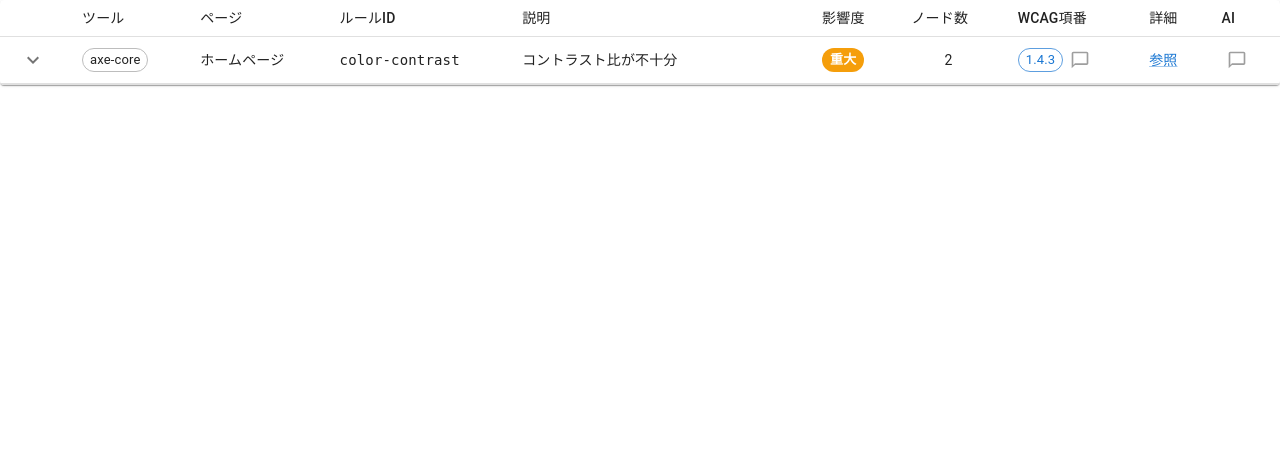
Test case: ViolationsTable › NodeDetails展開機能 › 展開ボタンをクリックするとノード情報が表示される
Expected: the text "<p style=\"color: #777\">テスト</p>" is not shown
Note: 展開ボタンをクリック
What coordinates should you click on to do the following:
click the button named "ノード情報を展開"
I would click on:
 (33, 60)
Its box is [16,43,50,77].
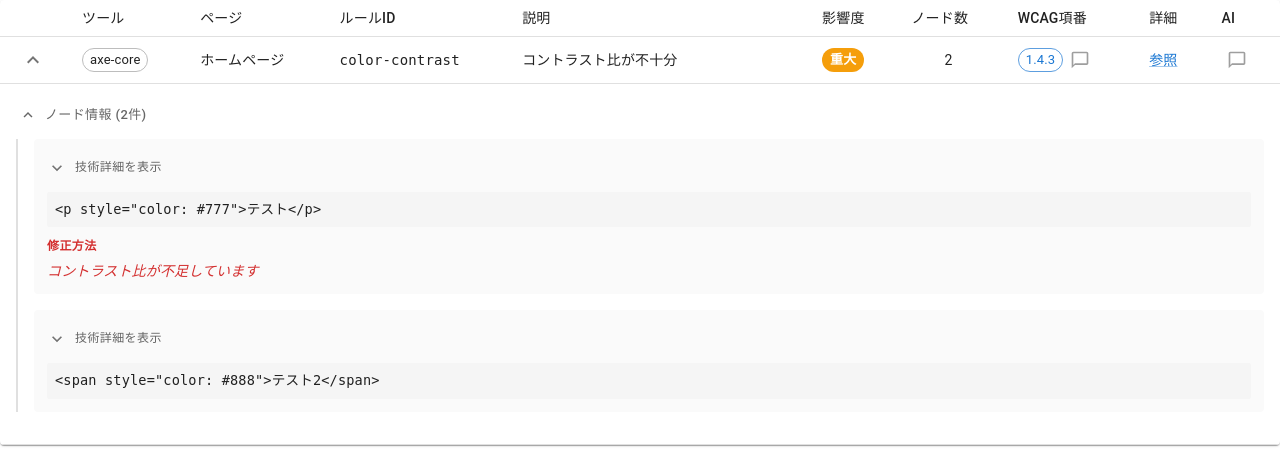
Now the text "<p style=\"color: #777\">テスト</p>" is shown, box [47,192,1251,227]
